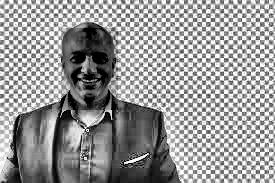happy: (62, 28, 119, 110)
